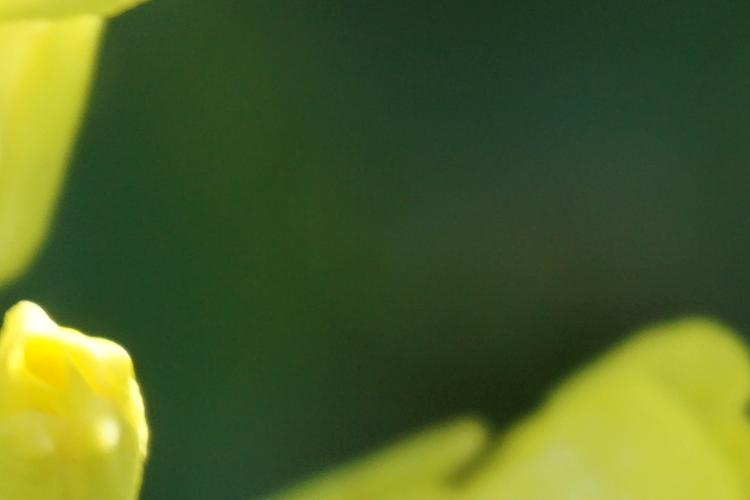yellow: (7, 298, 170, 500)
